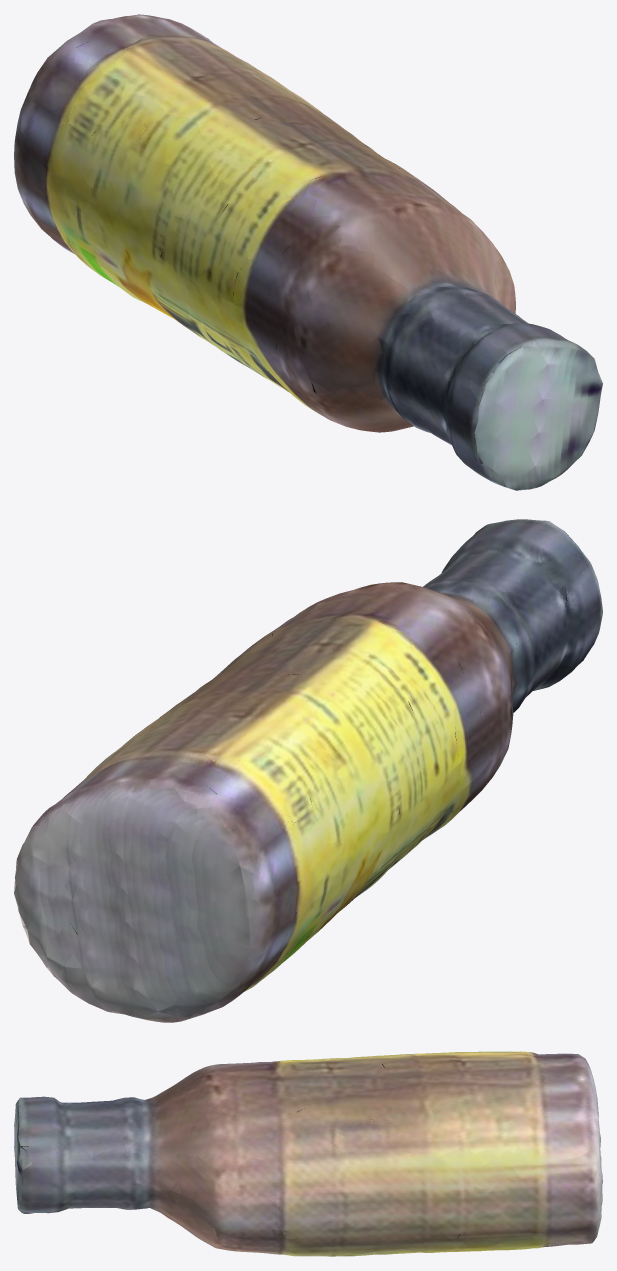
The model's file is spar3d.glb.
The picture shows the model from 3 angles, top to bottom: view 1: azimuth 30°, elevation 25°; view 2: azimuth 150°, elevation 25°; view 3: azimuth 270°, elevation 25°; orthographic projection. The views are drawn at different scales.
Visible parts, largest first — view 1: world; view 2: world; view 3: world.
Part boxes in pixels (<box>): world: <box>14,14,602,490</box>; world: <box>14,519,602,1022</box>; world: <box>14,1051,602,1256</box>.
Bounding box in the file's own units: 0.3594 × 0.3241 × 1.01.
Materials: 1 (1 with a texture image).
